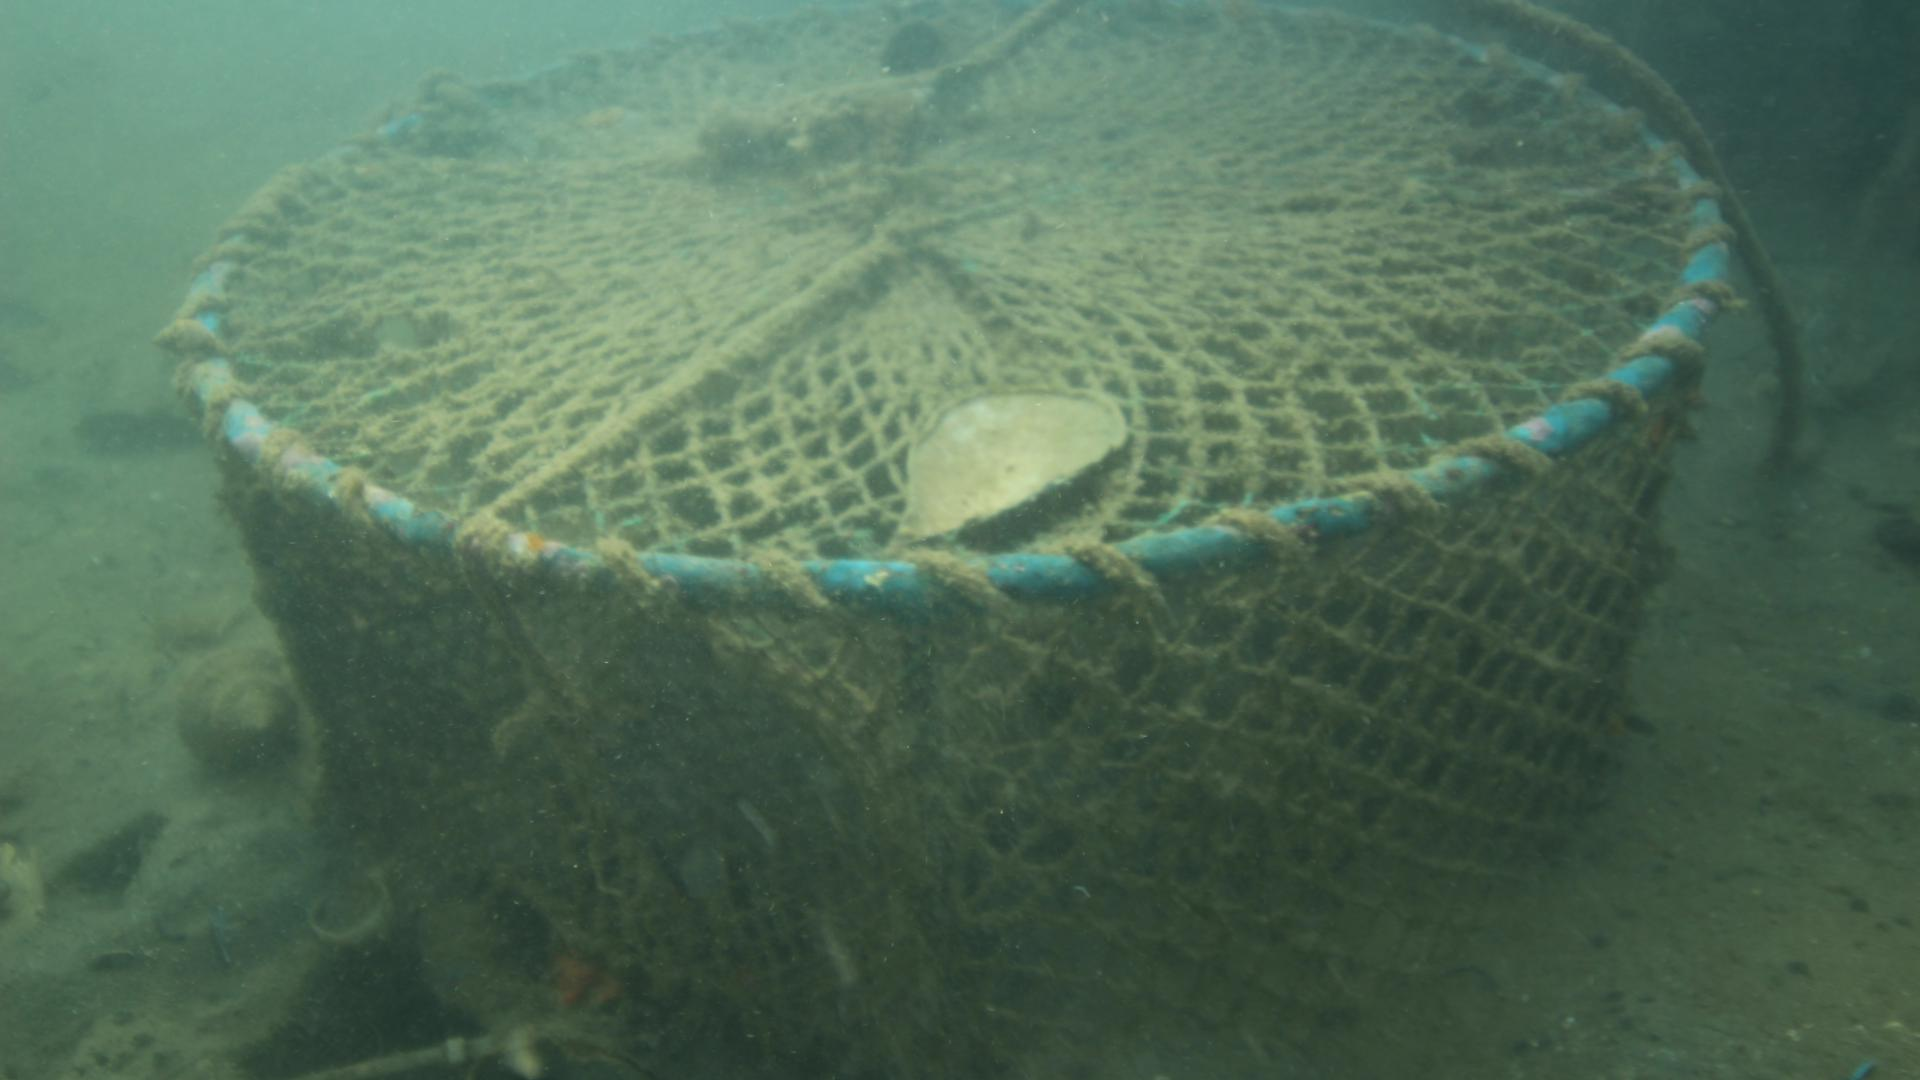circular fish trap: (154, 0, 1738, 1080)
